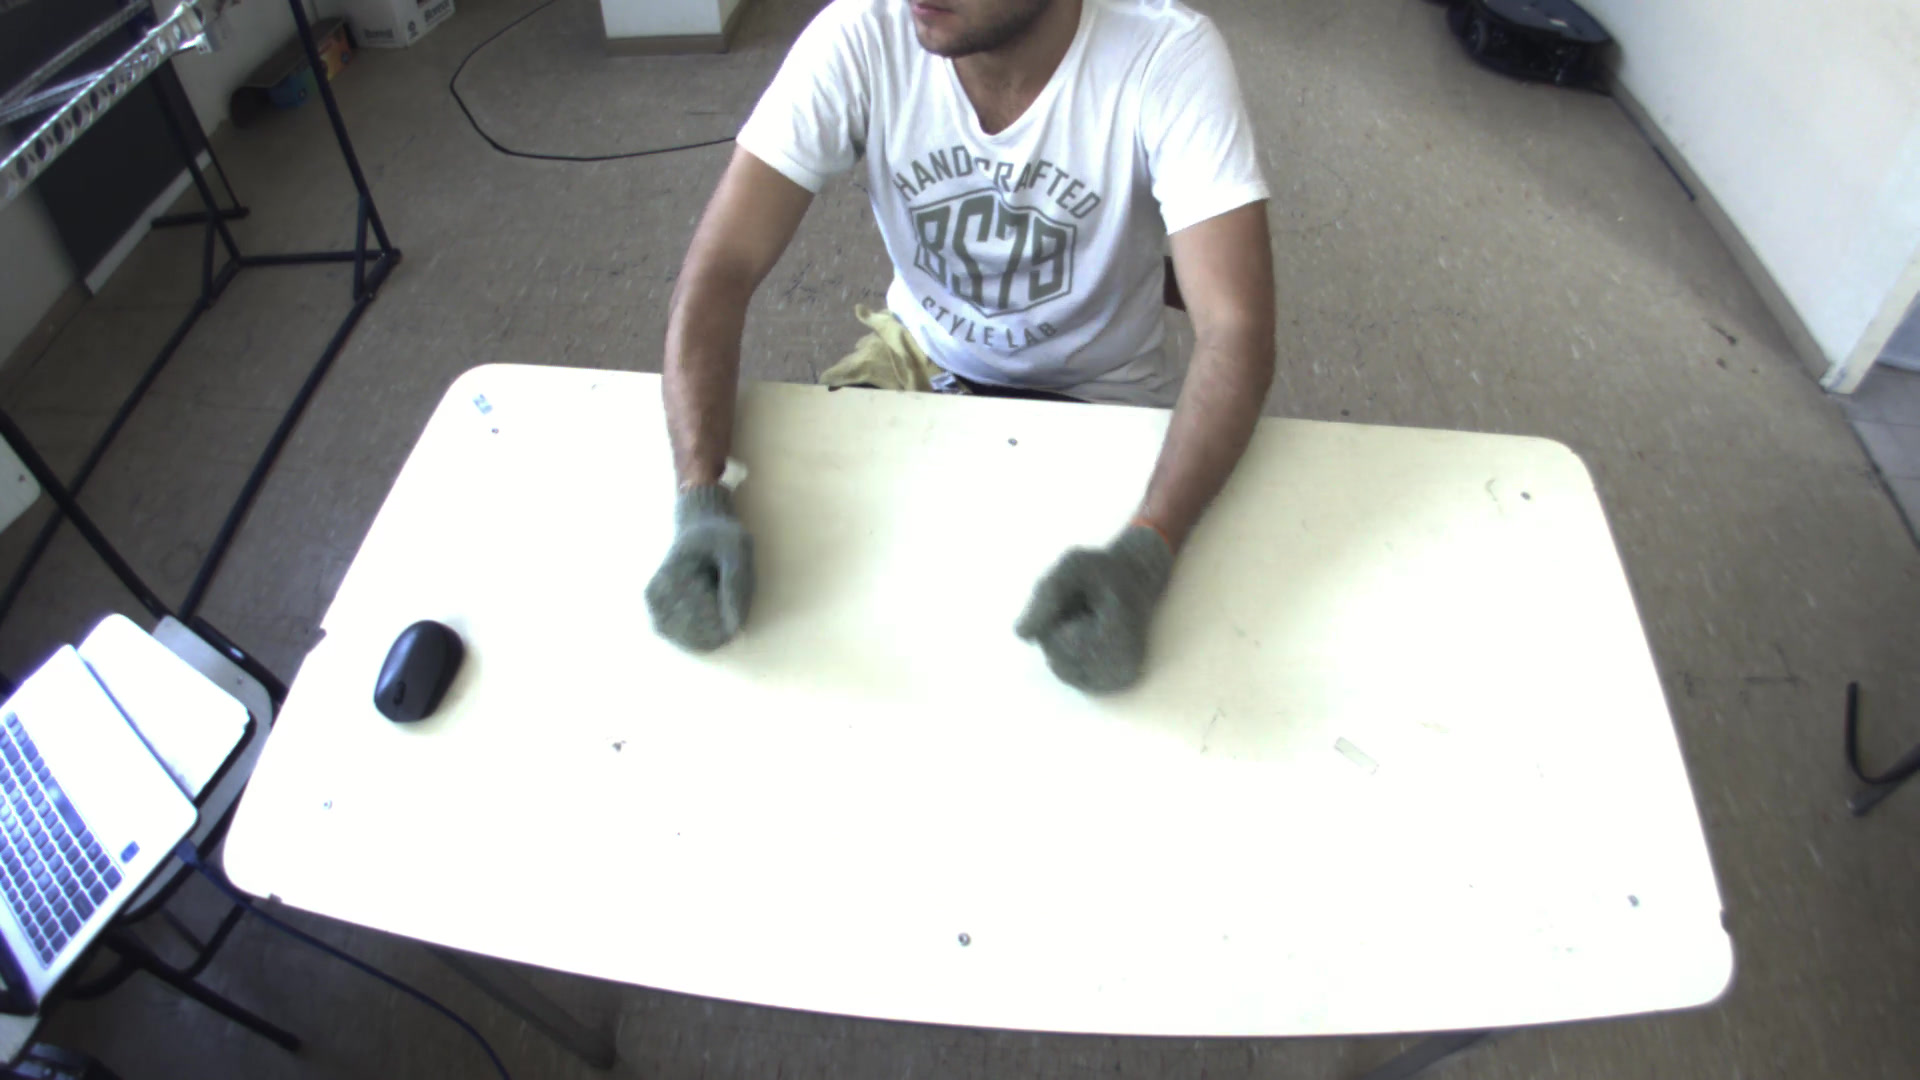hand: (1009, 513, 1189, 695), (632, 465, 766, 651)
